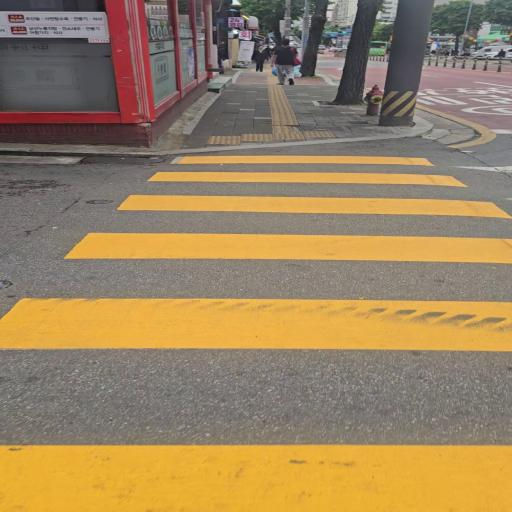yellow-crosswalk: (0, 144, 512, 512)
